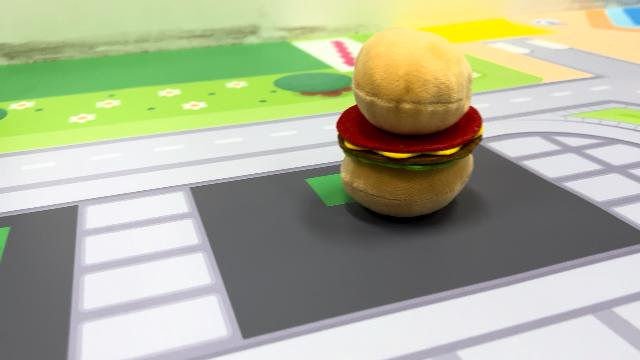burger: (333, 24, 487, 220)
